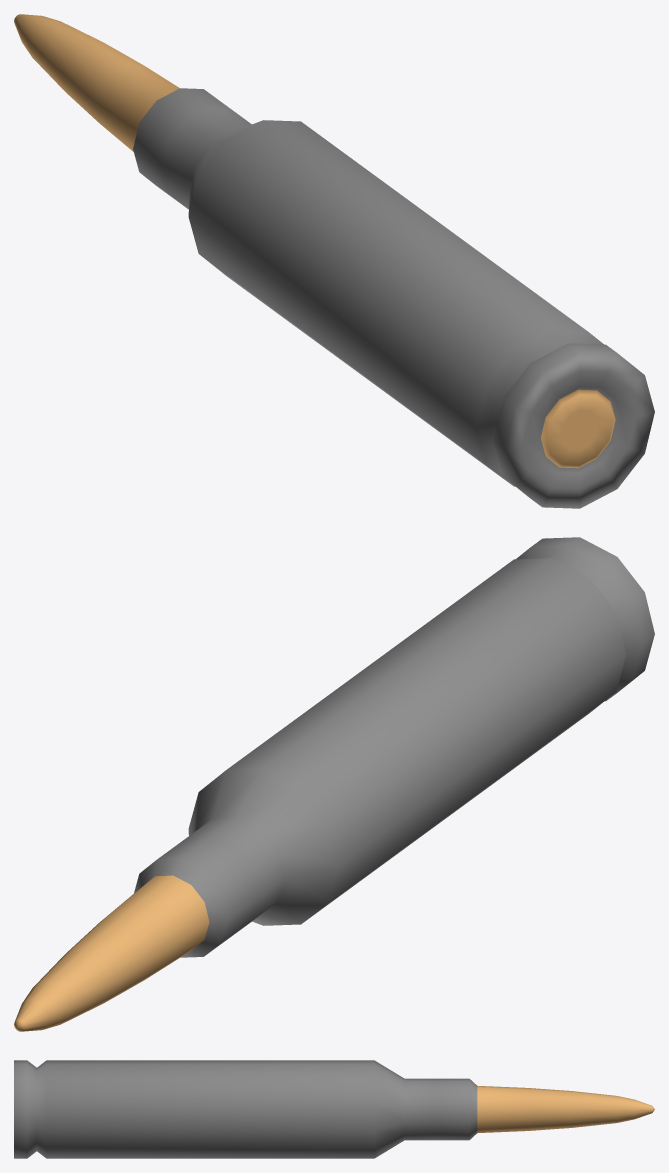
File: Rifle_Bullet.fbx
3 views of the same model, one above another, from view 1: azimuth 30°, elevation 25°; view 2: azimuth 150°, elevation 25°; view 3: azimuth 270°, elevation 25° (orthographic). The views are drawn at different scales.
Parts seen in each view (by area): view 1: Cylinder; view 2: Cylinder; view 3: Cylinder.
Part boxes in pixels (bbox=[...]): Cylinder: bbox=[14, 14, 654, 508]; Cylinder: bbox=[14, 537, 654, 1031]; Cylinder: bbox=[14, 1060, 654, 1158].
Bounding box in the file's own units: 1.2 × 1.2 × 7.81.
